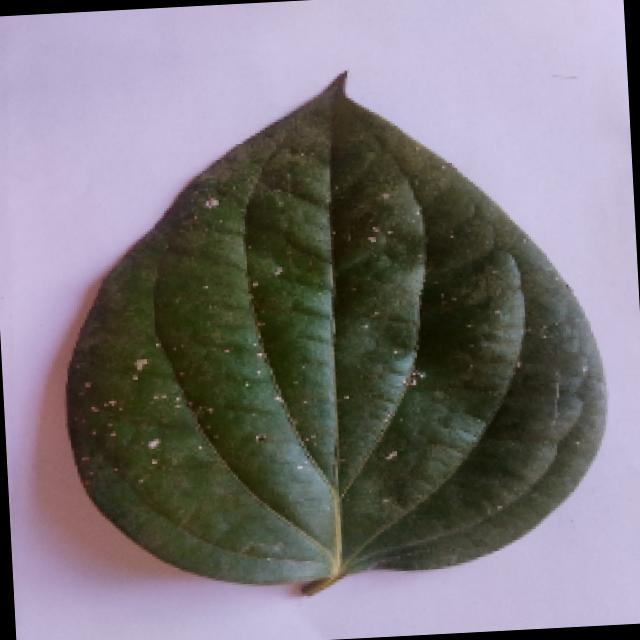pollu-disease: (45, 58, 626, 596)
